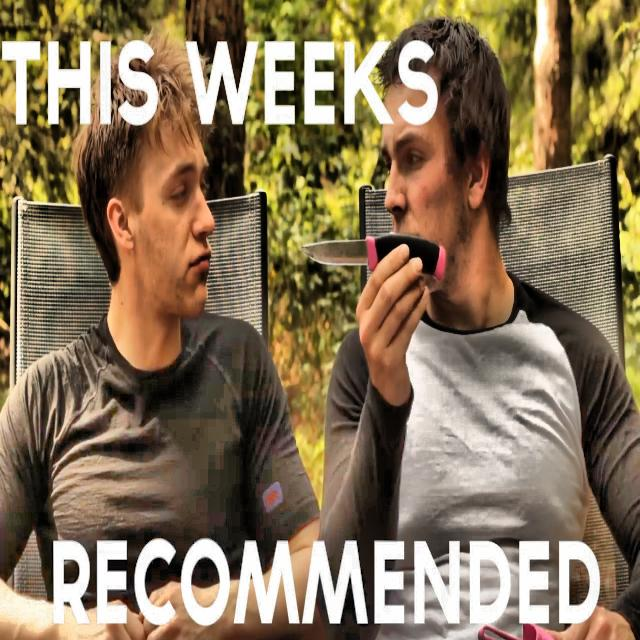knife: (304, 234, 447, 281)
